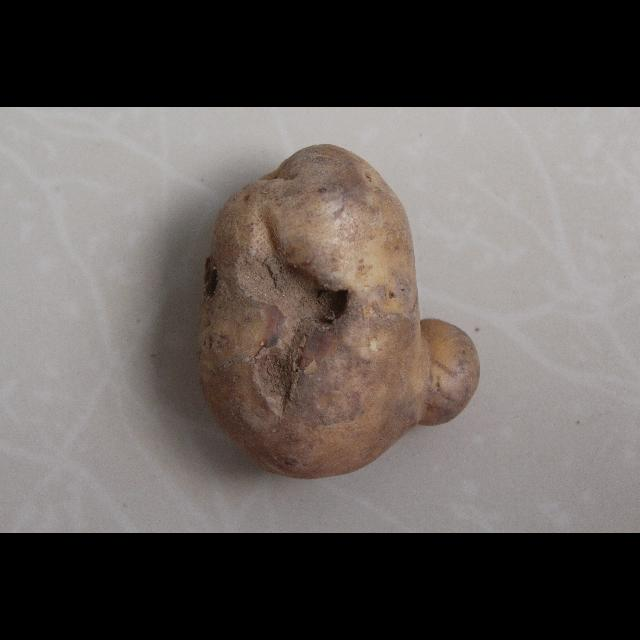Diseased-fungal potato: (192, 141, 480, 481)
